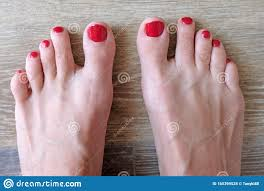Feet: (135, 16, 246, 175), (10, 21, 117, 176)
